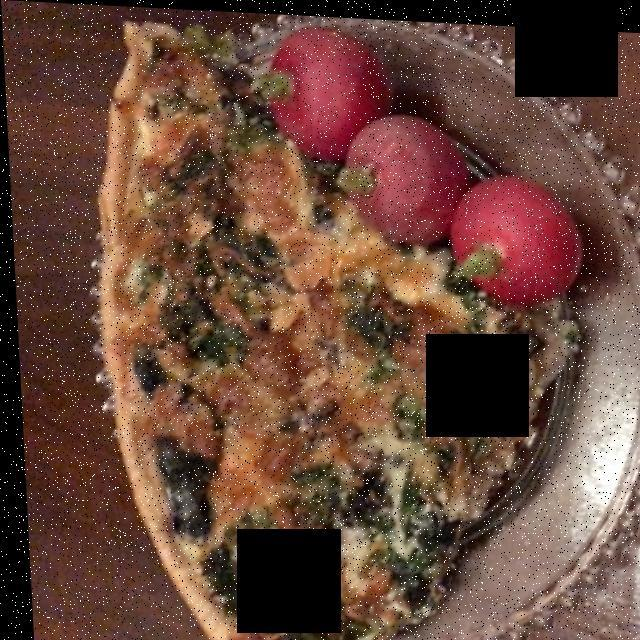bread: (104, 24, 551, 634)
cheese: (167, 161, 442, 550)
radish: (273, 47, 574, 299)
